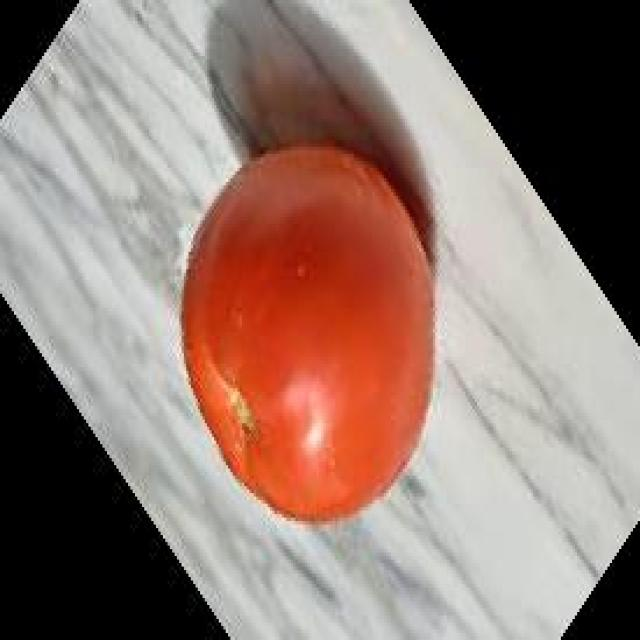Tomato: (178, 129, 444, 526)
